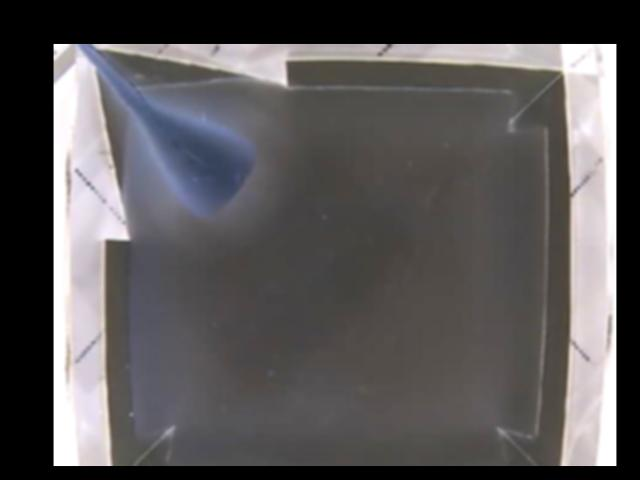Mooli: (137, 101, 259, 219)
